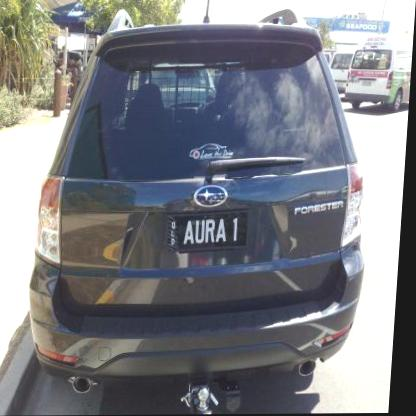License_Plate: (166, 210, 249, 249), (362, 81, 371, 86)
